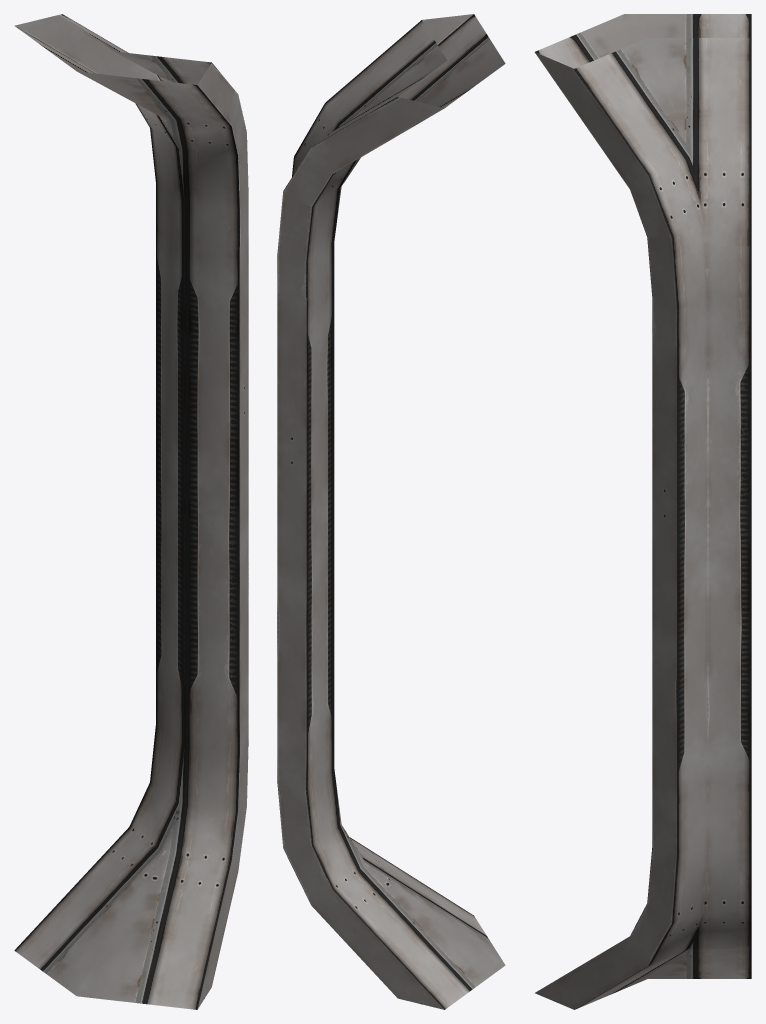
Rendered from Beam_F_02.fbx.
The picture shows the model from 3 angles, left to right: view 1: azimuth 30°, elevation 25°; view 2: azimuth 150°, elevation 25°; view 3: azimuth 270°, elevation 25°; orthographic projection. The views are drawn at different scales.
Parts seen in each view (by area): view 1: Beam_F_02; view 2: Beam_F_02; view 3: Beam_F_02.
Boxes of the visible parts, <box> form: Beam_F_02: <box>14,14,248,1009</box>; Beam_F_02: <box>277,14,505,1009</box>; Beam_F_02: <box>534,14,751,1009</box>.
Bounding box in the file's own units: 89.67 × 400 × 83.71.
1 material, 1 textured.
